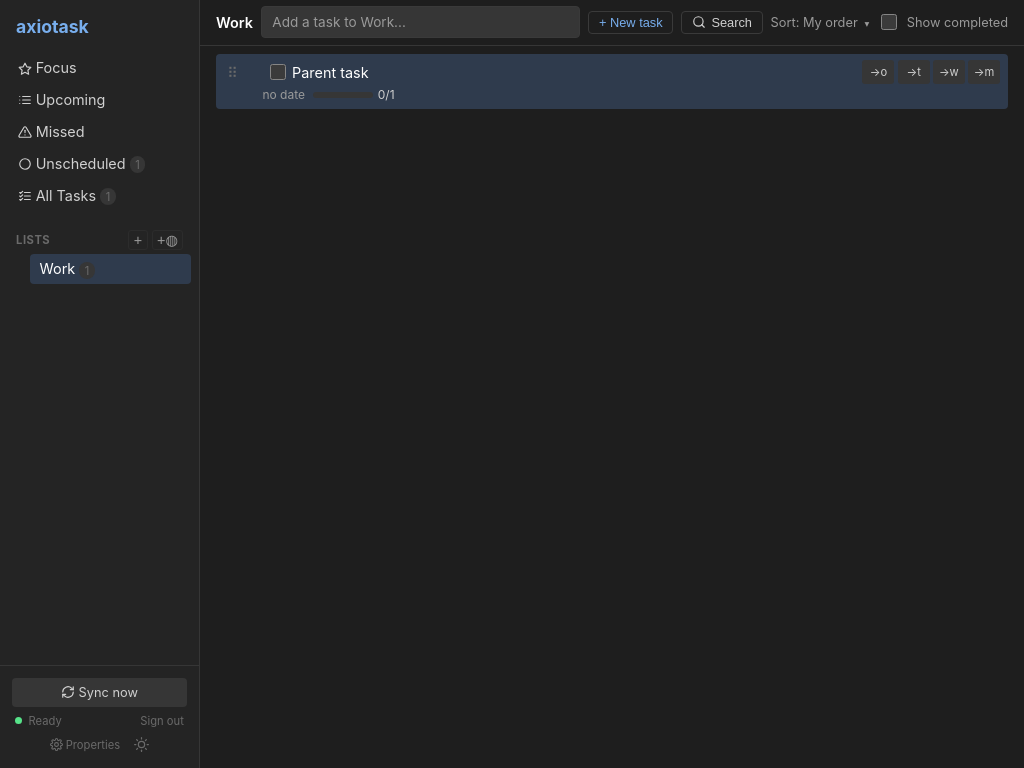
Test case: Detail Panel Workflows › UT-14: Create subtask from detail panel › never auto-discards an untitled subtask that has children of its own
The width and height of the screenshot is (1024, 768).
Note: Open the untitled middle subtask in the panel, then close it untouched.
What coordinates should you click on to do the following:
click the text "Parent task"
I would click on:
 (330, 72)
Its box is [292, 64, 369, 81].
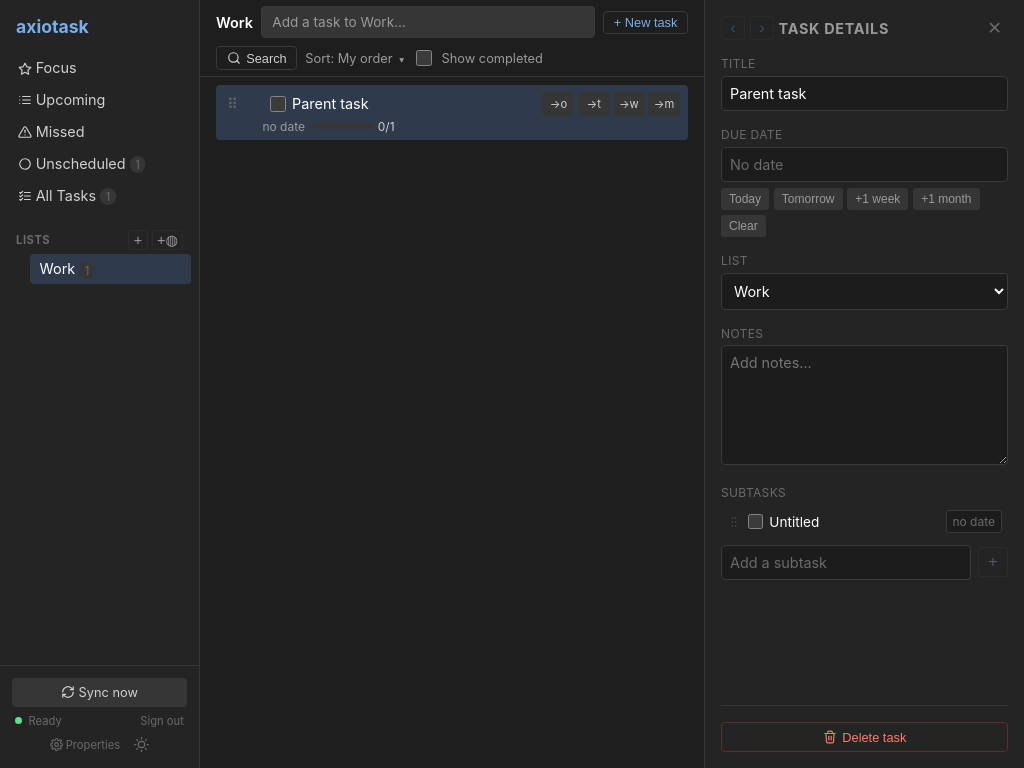
Now the heading "Task Details" is shown, box [779, 20, 889, 36]
What coordinates should you click on to do the following:
click the text with class "subtask-title"
I would click on:
 (794, 522)
Its box is [769, 514, 819, 530].
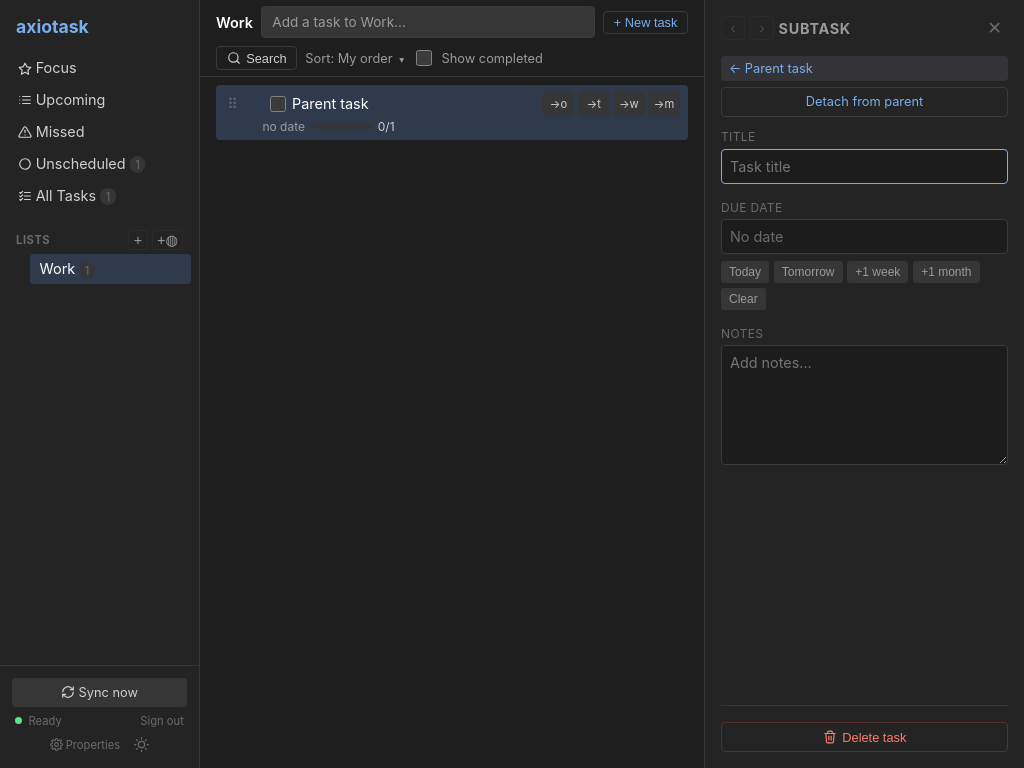
Now the heading "Subtask" is shown, box [779, 20, 851, 36]
What coordinates should you click on to do the following:
click the button "✕"
I would click on:
 (995, 28)
Its box is [981, 16, 1008, 40].
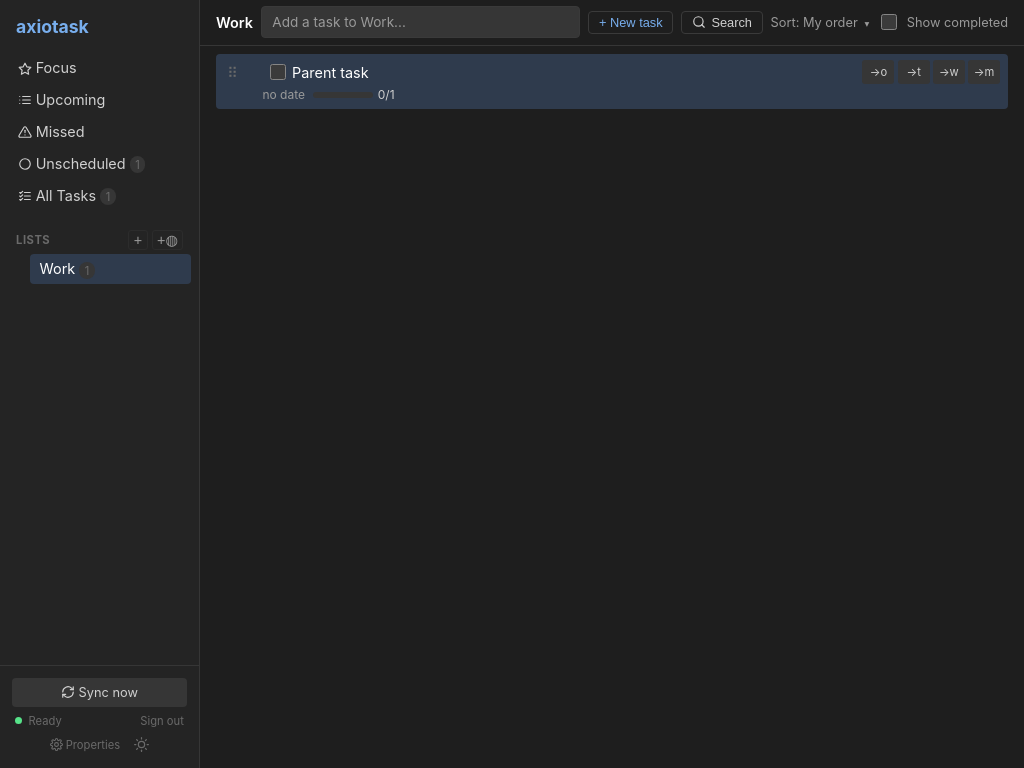
What coordinates should you click on to do the following:
click the text "Parent task"
I would click on:
 (330, 72)
Its box is [292, 64, 369, 81].
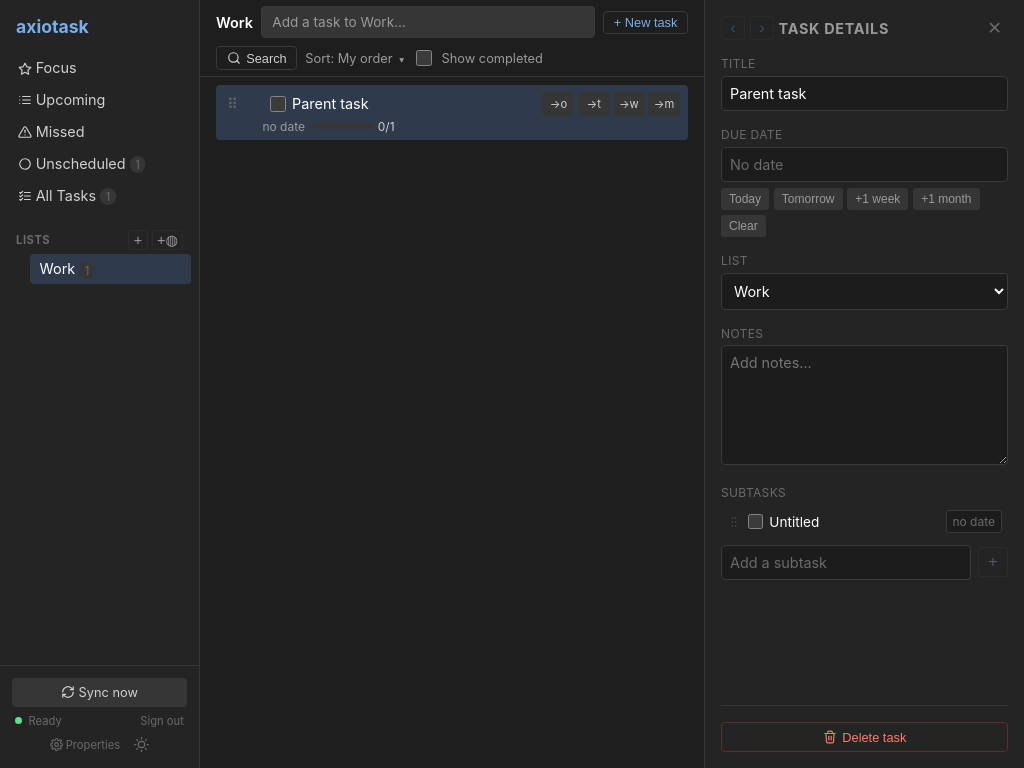
Now the text "Subtasks" is shown, box [721, 485, 786, 500]
Now the text "Untitled" is shown, box [769, 514, 819, 530]
